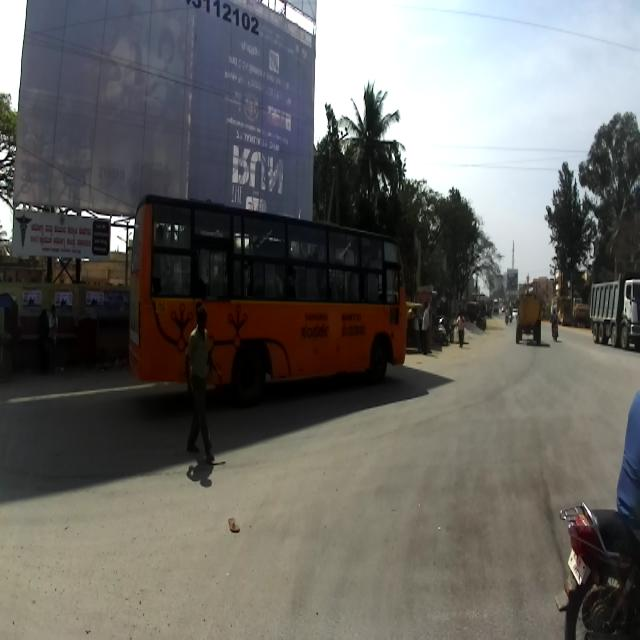bus ahead at: (128, 200, 409, 383)
person ahead at: (176, 299, 224, 485)
